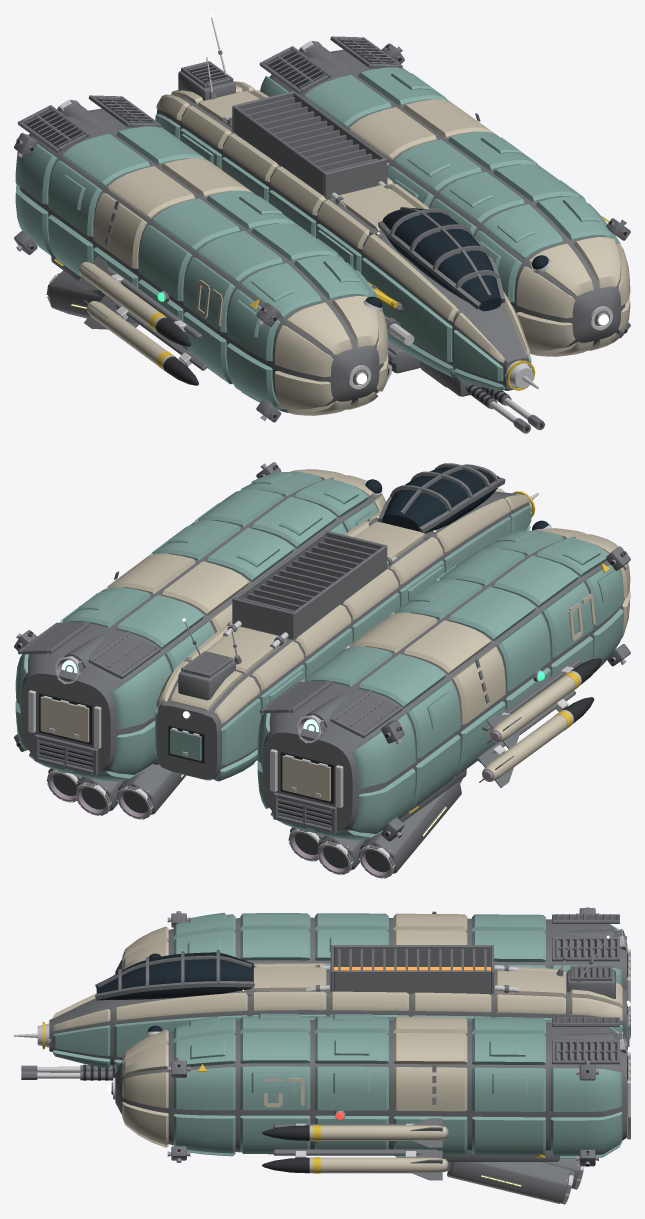
The model's file is interceptor.glb.
3 renders of one model, top to bottom at view 1: azimuth 30°, elevation 25°; view 2: azimuth 150°, elevation 25°; view 3: azimuth 270°, elevation 25°, orthographic. The views are drawn at different scales.
Visible parts, largest first — view 1: interceptor; view 2: interceptor; view 3: interceptor.
Part boxes in pixels (x1,y1,x2,y2): interceptor: (14,14,630,433); interceptor: (14,462,630,878); interceptor: (14,907,630,1204).
Bounding box in the file's own units: 5.56 × 2.91 × 7.85.
